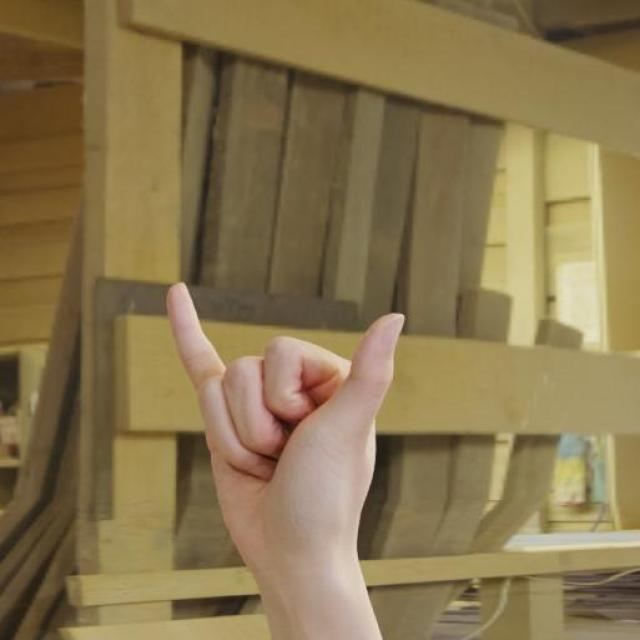Y: (162, 279, 408, 582)
